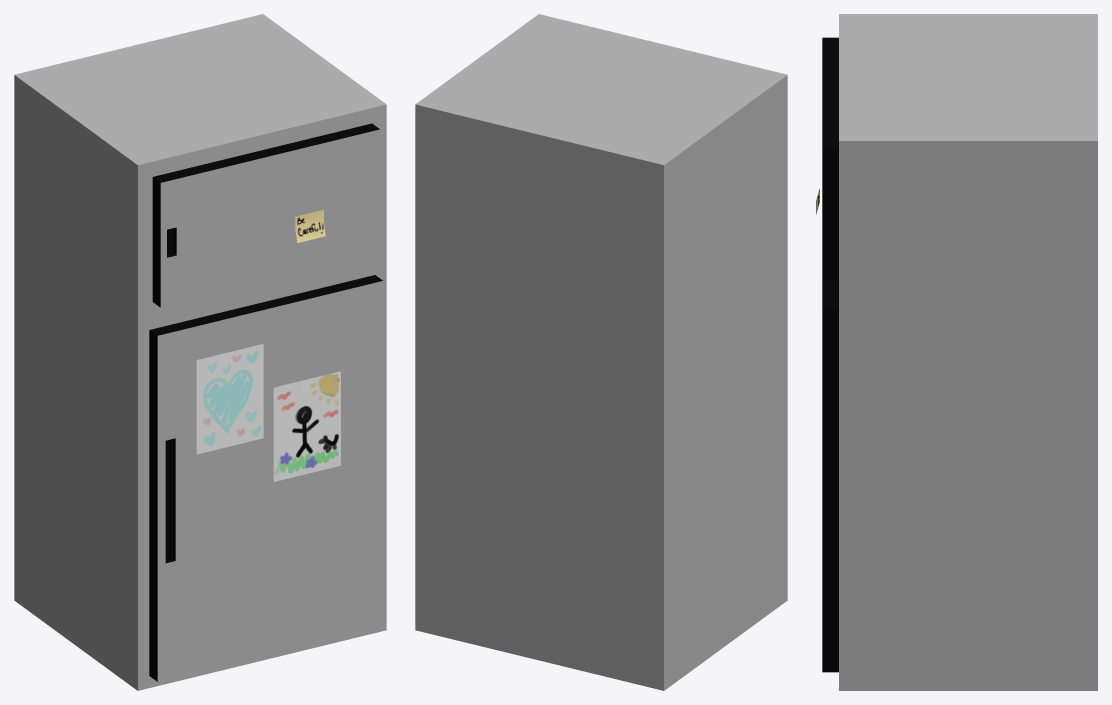
File: Fridge.fbx
The picture shows the model from 3 angles, left to right: view 1: azimuth 30°, elevation 25°; view 2: azimuth 150°, elevation 25°; view 3: azimuth 270°, elevation 25°; orthographic projection. The views are drawn at different scales.
Visible parts, largest first — view 1: Fridge; view 2: Fridge; view 3: Fridge.
Boxes of the visible parts, left/top/right/bottom form: Fridge: left=14, top=14, right=386, bottom=690; Fridge: left=415, top=14, right=787, bottom=690; Fridge: left=816, top=14, right=1097, bottom=690.
Bounding box in the file's own units: 143 × 289 × 134.
1 material, 1 textured.
